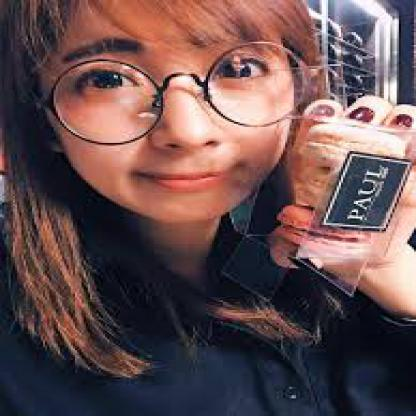glasses: (43, 48, 329, 146)
